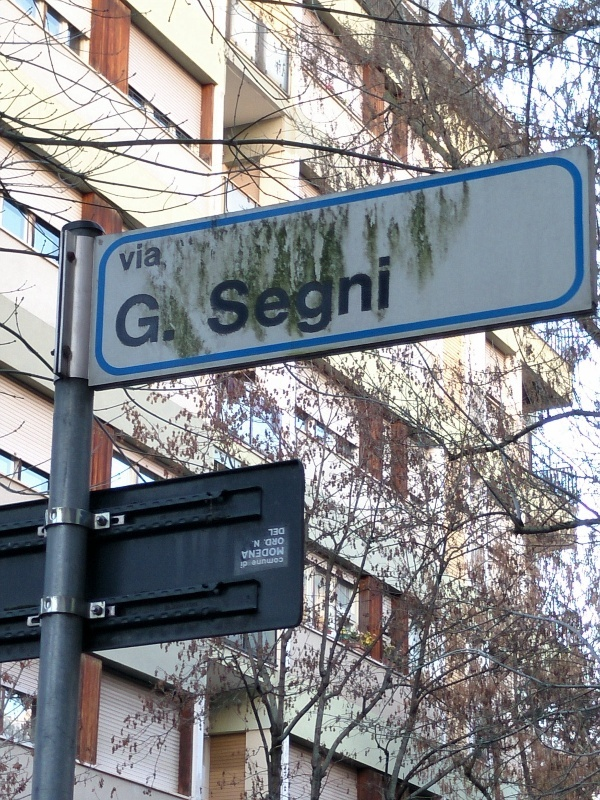text: (225, 253, 240, 338), (241, 253, 256, 338), (257, 253, 272, 338), (273, 253, 288, 338), (289, 253, 304, 338), (305, 253, 320, 338), (321, 253, 336, 338), (337, 253, 352, 338), (353, 253, 368, 338), (369, 253, 384, 338), (211, 253, 224, 338), (129, 291, 144, 349), (145, 291, 160, 349), (161, 291, 176, 349), (385, 253, 394, 338), (257, 522, 272, 572), (273, 522, 287, 572), (116, 291, 128, 349), (145, 239, 161, 275), (129, 239, 144, 275), (117, 239, 128, 275), (251, 522, 256, 572)
